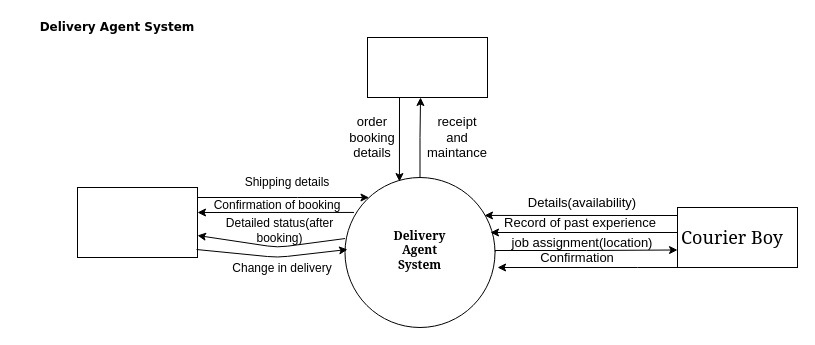
Image size: 815x345. Some labels were removed from this diagram. Here are the shapes that lost their labels. From the top down, the centre of each, then its label:
the point at 427,67: Customer
the point at 137,222: Shopping Portal
